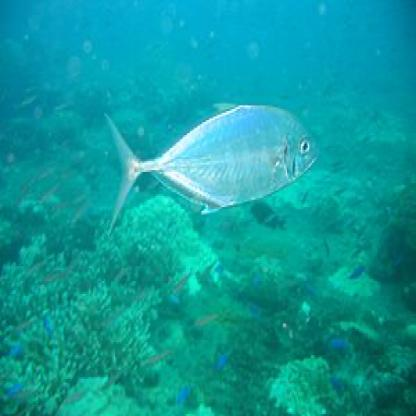Carangidae -Jacks-: (99, 101, 323, 234)
